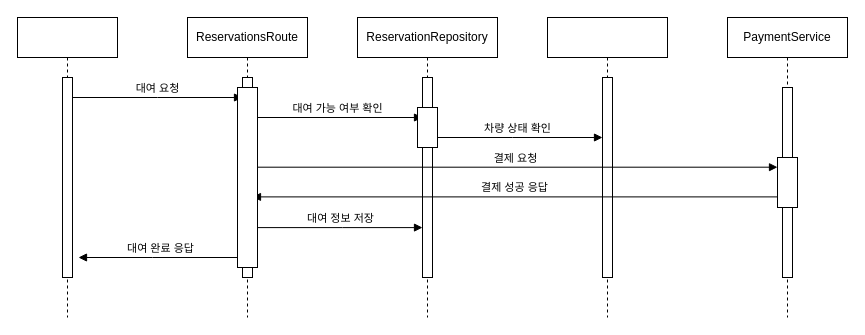
This 865x335 diagram has some shape labels left out. The box of each missing label's shape, as (x1, y1, x2, y2) in pixels:
Customer: (16, 16, 118, 318)
Vehicle: (546, 16, 668, 318)
